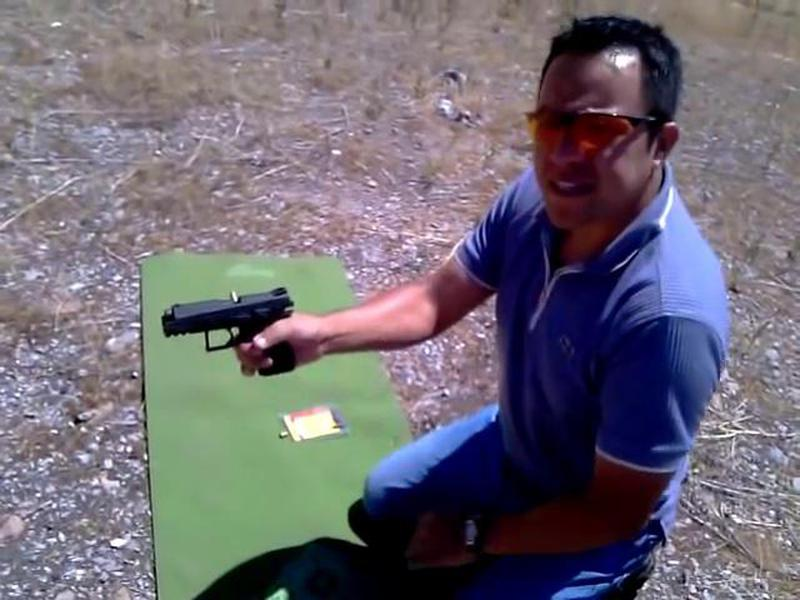Pistola: (133, 266, 310, 410)
